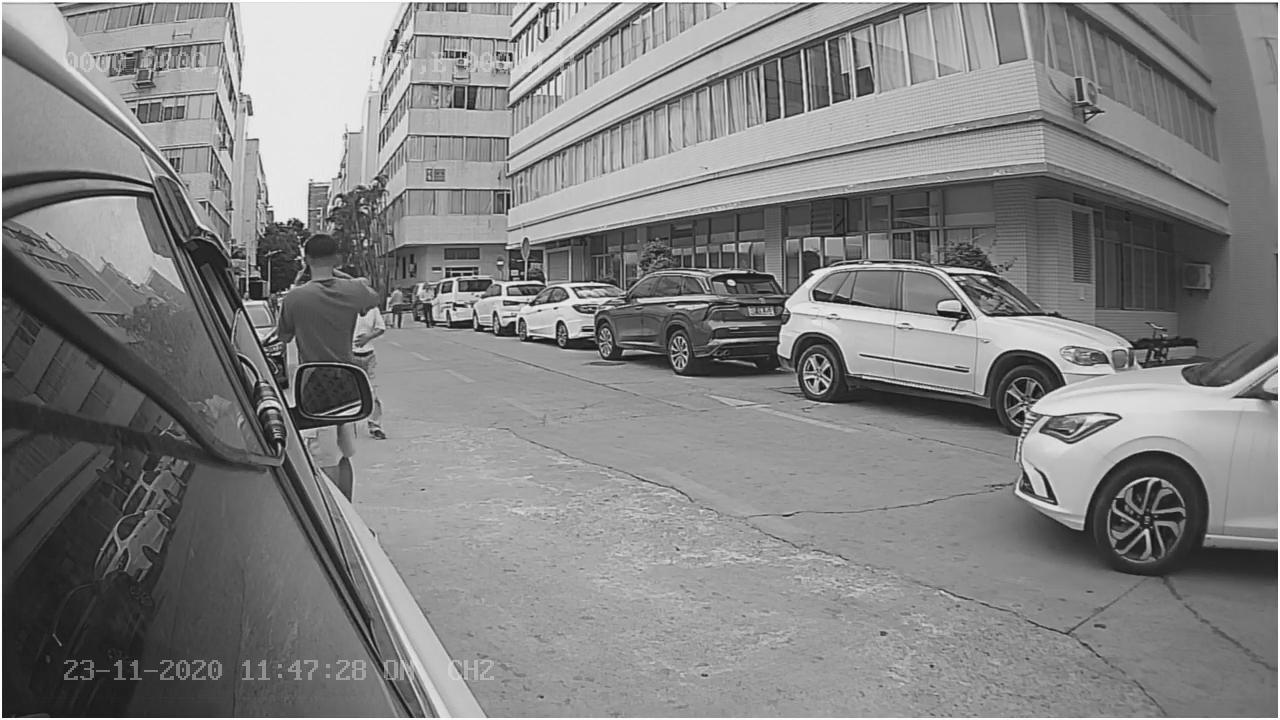person: (279, 216, 378, 357)
